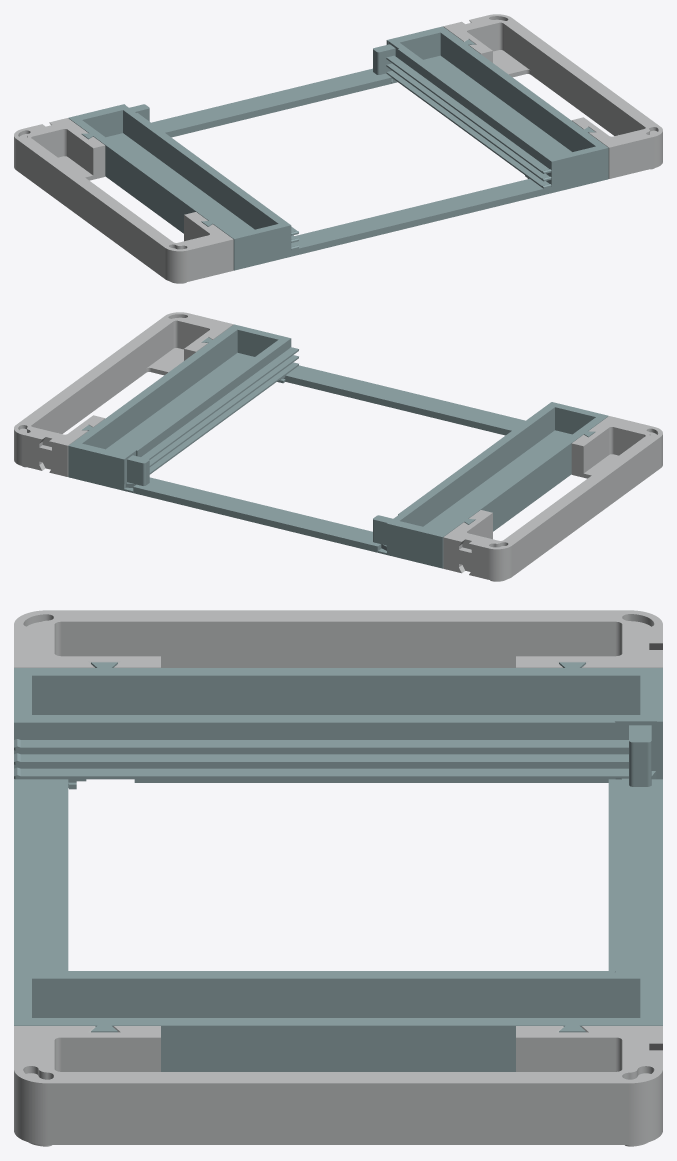
The model's file is layer-assembly.glb.
3 renders of one model, top to bottom at view 1: azimuth 30°, elevation 25°; view 2: azimuth 150°, elevation 25°; view 3: azimuth 270°, elevation 25°, orthographic. The views are drawn at different scales.
Visible parts, largest first — view 1: A02, A01, A05, A06, A03, A04; view 2: A02, A01, A05, A06, A04, A03; view 3: A01, A06, A02, A05, A03, A04.
Boxes of the visible parts, x1,y1,x2,y2 form: A02: (373, 26, 608, 194); A01: (68, 104, 299, 270); A05: (14, 118, 233, 283); A06: (443, 14, 662, 178); A03: (294, 178, 543, 254); A04: (151, 68, 392, 137); A02: (68, 324, 298, 492); A01: (373, 402, 608, 568); A05: (443, 416, 662, 581); A06: (14, 312, 233, 476); A04: (126, 477, 386, 552); A03: (284, 365, 525, 435); A01: (14, 662, 662, 789); A06: (14, 1026, 662, 1146); A02: (14, 959, 662, 1071); A05: (14, 610, 662, 667); A03: (14, 779, 68, 970); A04: (608, 771, 662, 972).
Bounding box in the file's own units: 0.495 × 0.033 × 0.287.
